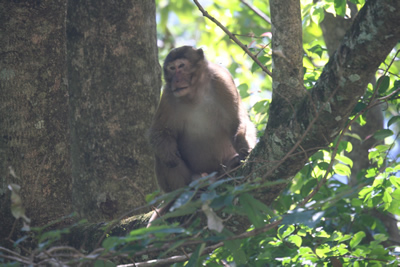monkey: (150, 41, 247, 204)
